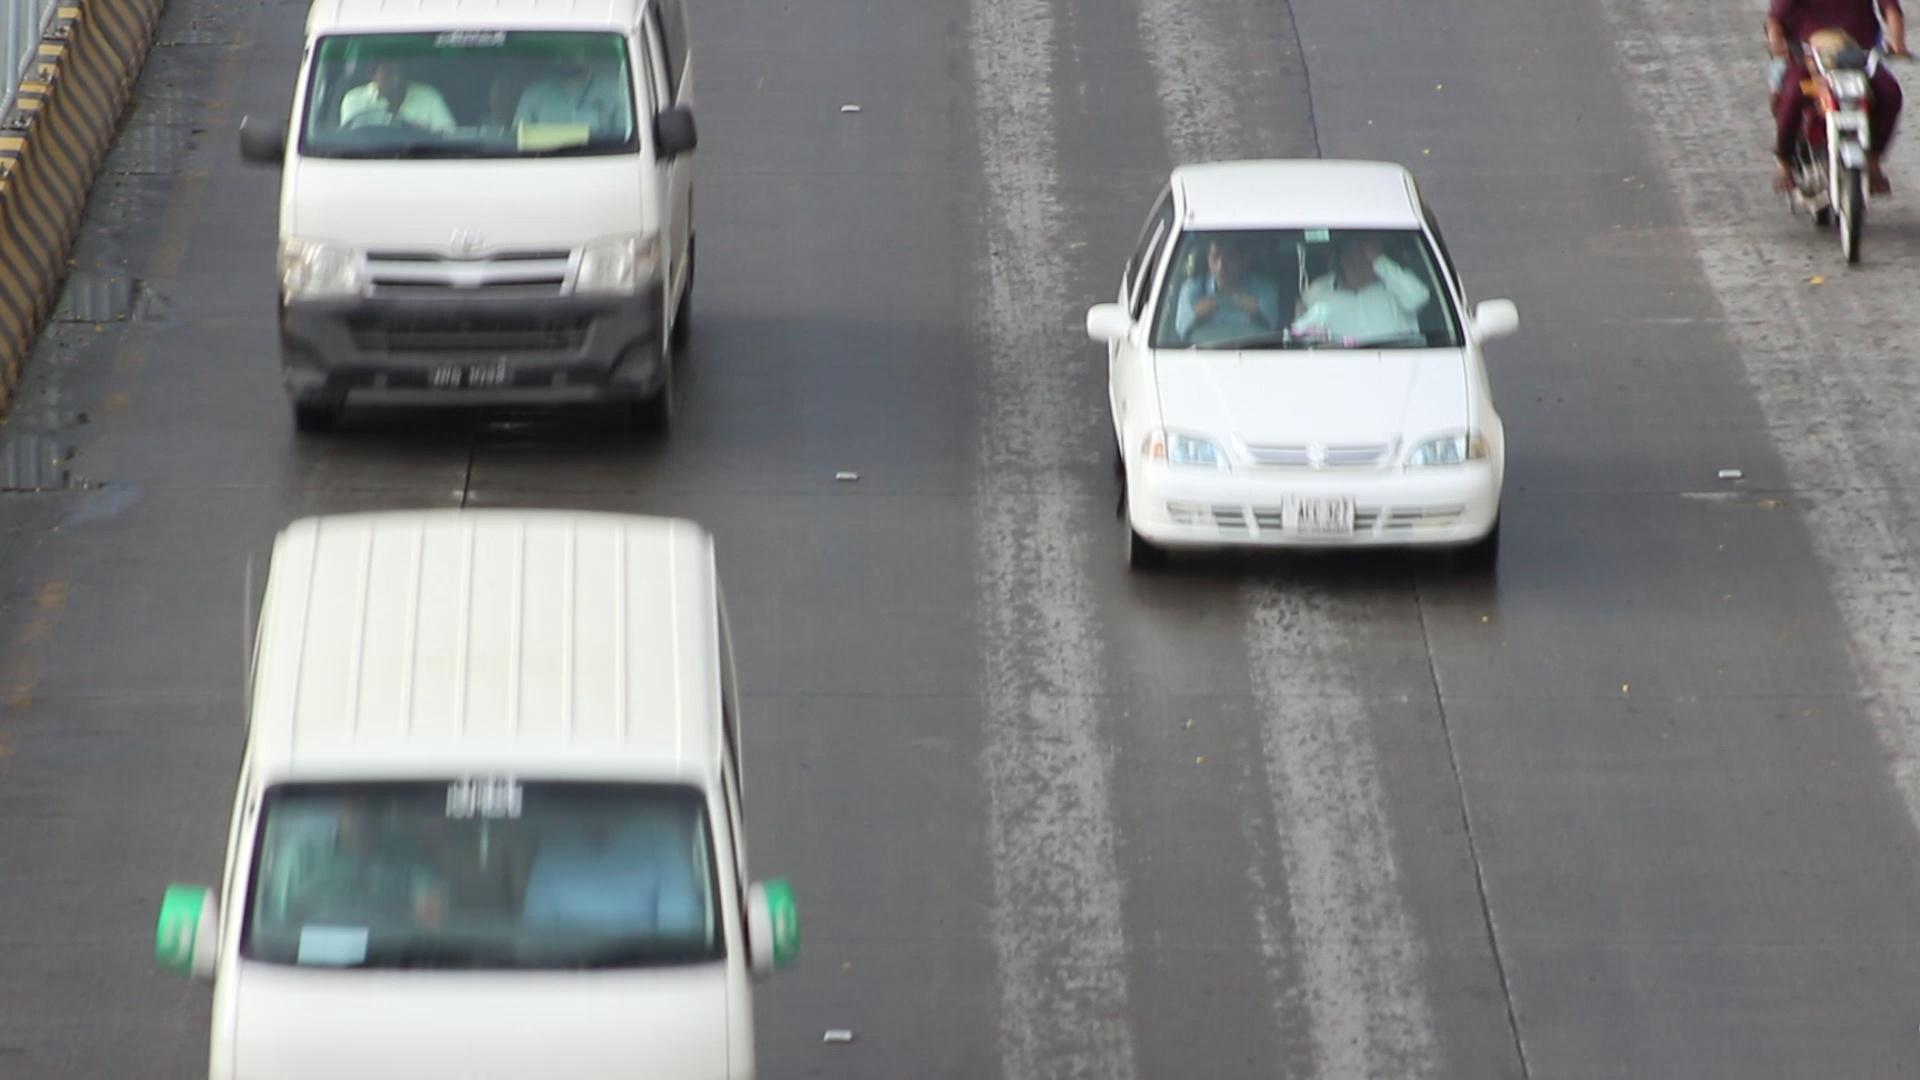windshield: (224, 766, 735, 990), (291, 17, 644, 173), (1141, 216, 1477, 360)
